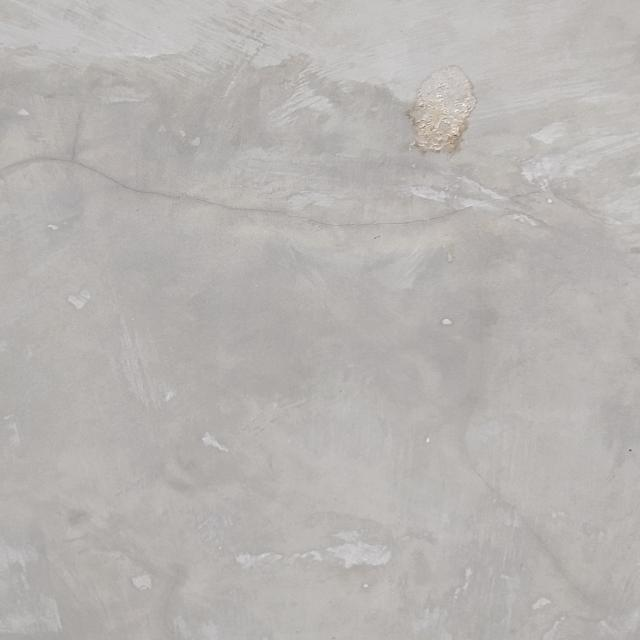Crack: (0, 155, 577, 228)
